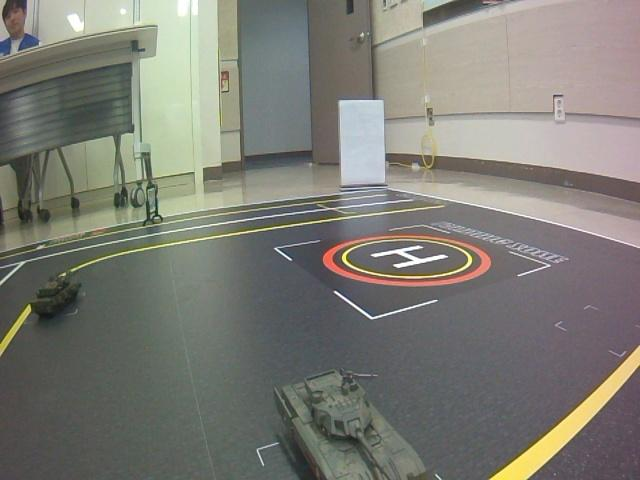Tank: (265, 355, 436, 480), (23, 268, 95, 319)
